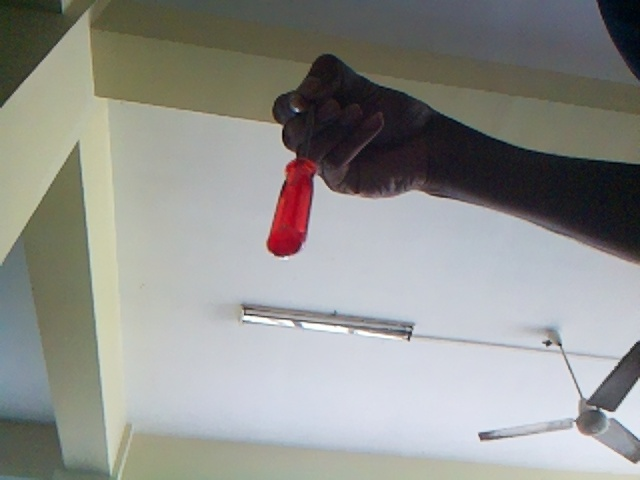redskrew: (257, 148, 323, 259)
